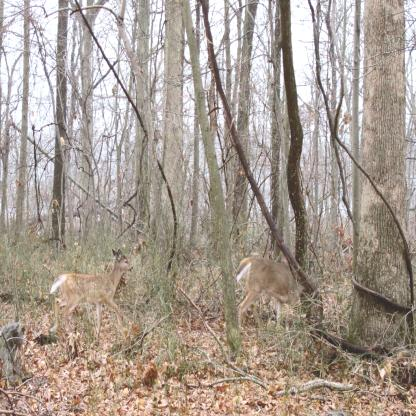Deer: (49, 246, 134, 340), (233, 253, 318, 333)
